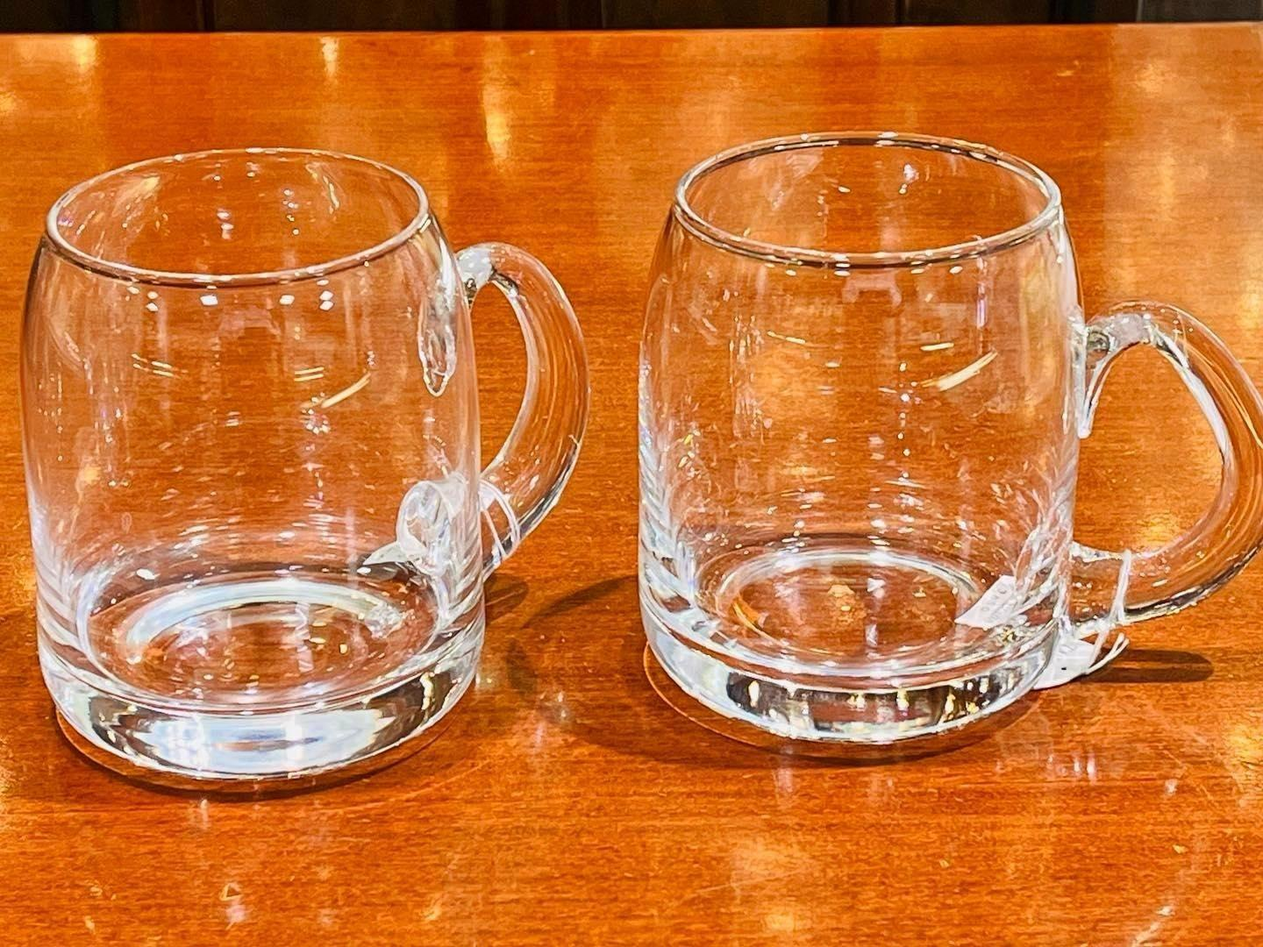glass-mug: (0, 138, 607, 822), (624, 120, 1263, 743)
